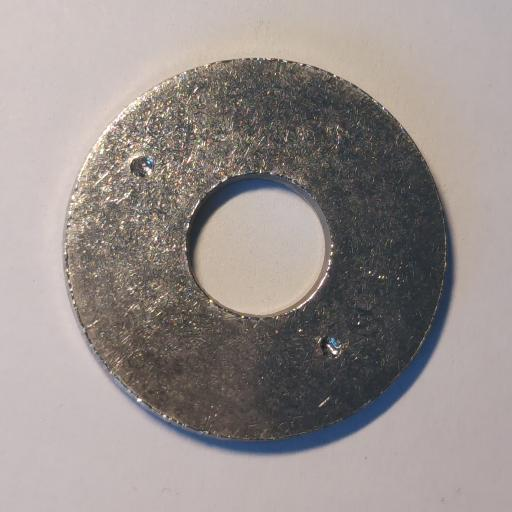circular_cavity: (316, 334, 346, 360), (128, 155, 153, 176)
